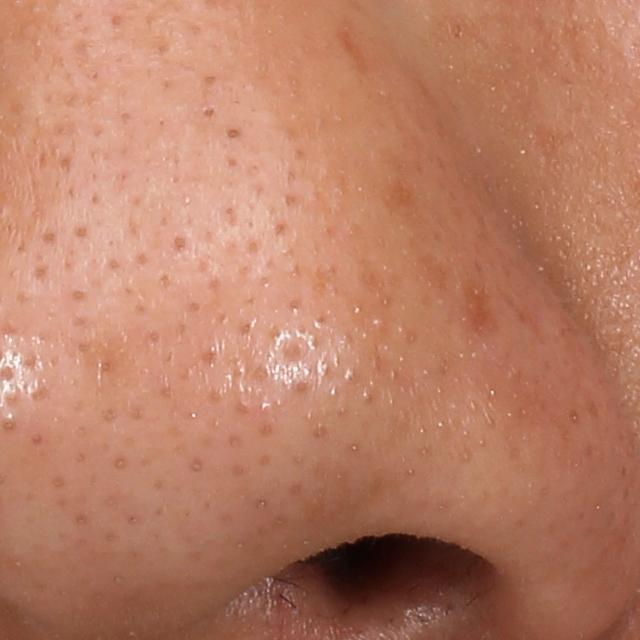comedo: (222, 121, 250, 145), (196, 101, 224, 125)
melasma: (457, 271, 499, 337)
